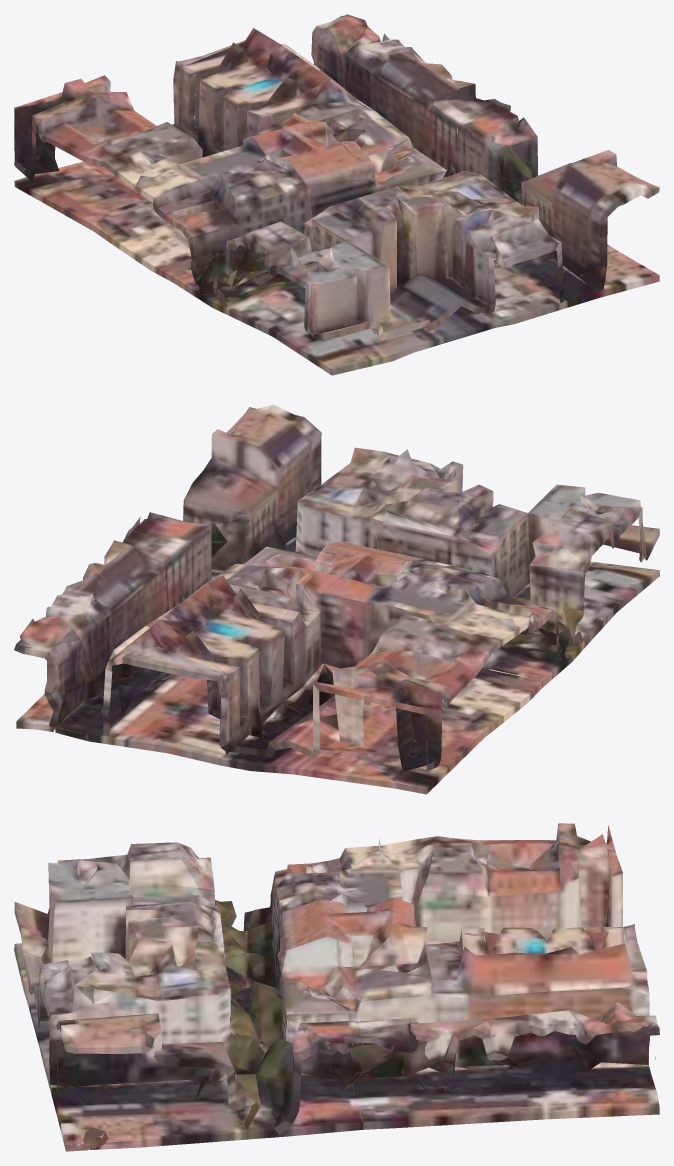
3 views of the same model, one above another, from view 1: azimuth 30°, elevation 25°; view 2: azimuth 150°, elevation 25°; view 3: azimuth 270°, elevation 25° (orthographic). The views are drawn at different scales.
Parts seen in each view (by area): view 1: Mesh_0; view 2: Mesh_0; view 3: Mesh_0.
Part boxes in pixels (x1,y1,x2,y2): Mesh_0: (14,14,659,375); Mesh_0: (14,404,659,794); Mesh_0: (14,823,659,1151).
Size of the model in its own units: 133 by 34.66 by 165.
Materials: 1 (1 with a texture image).
